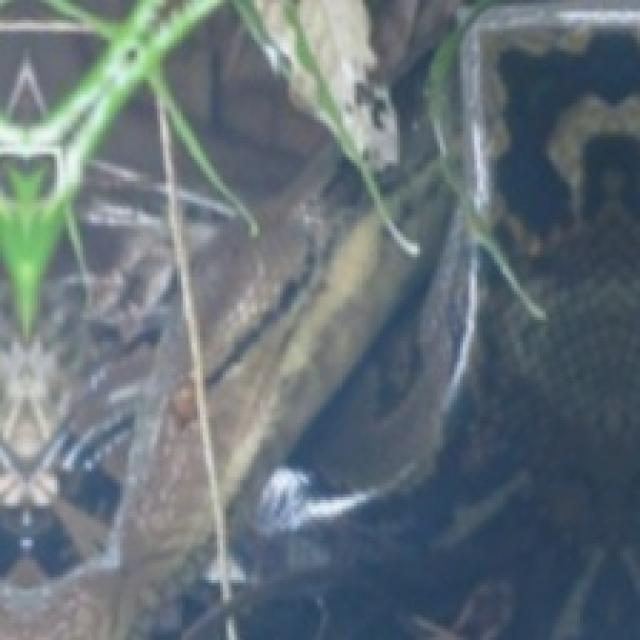reticulated python: (169, 0, 637, 637), (0, 91, 220, 637)
